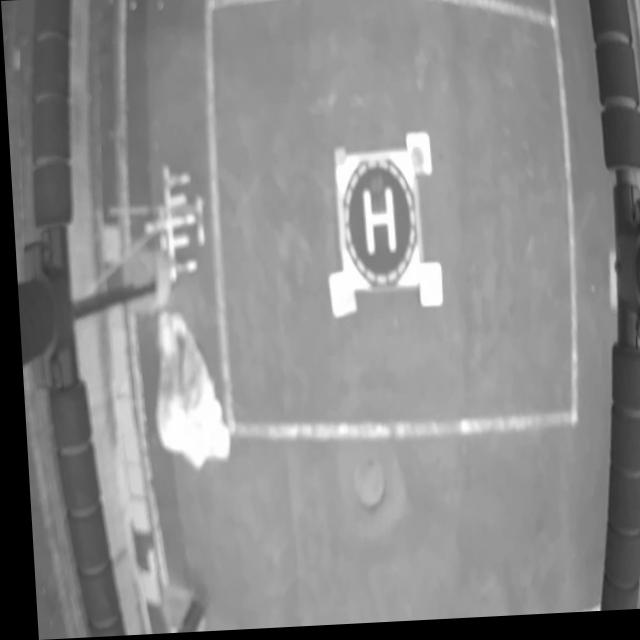Helipad: (360, 189, 393, 258)
